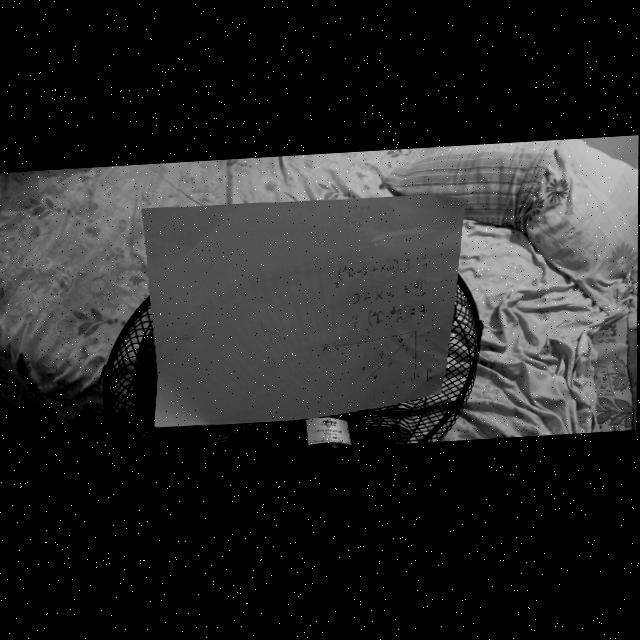document: (141, 194, 467, 428)
